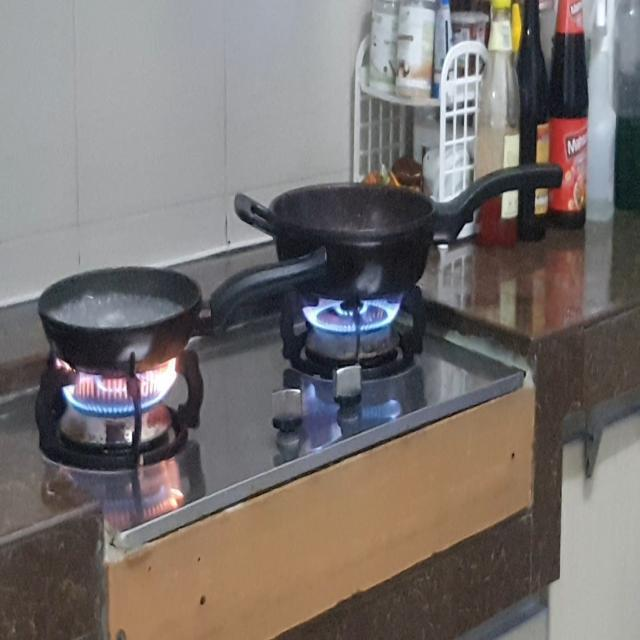smoke: (58, 344, 185, 421), (300, 290, 404, 335)
